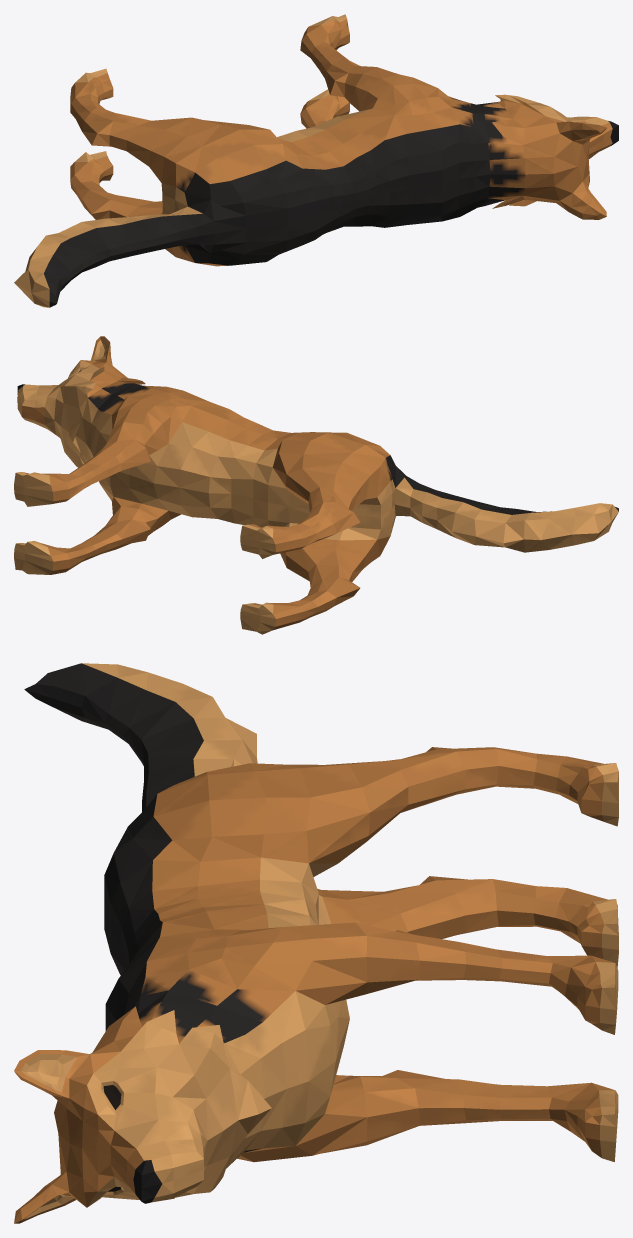
File: dog_shepherd.obj
The picture shows the model from 3 angles, top to bottom: view 1: azimuth 30°, elevation 25°; view 2: azimuth 150°, elevation 25°; view 3: azimuth 270°, elevation 25°; orthographic projection. The views are drawn at different scales.
Visible parts, largest first — view 1: dog_shepherd; view 2: dog_shepherd; view 3: dog_shepherd.
Part boxes in pixels (left/top/right/bottom): dog_shepherd: left=14, top=14, right=618, bottom=307; dog_shepherd: left=14, top=336, right=618, bottom=634; dog_shepherd: left=14, top=663, right=618, bottom=1223.
Bounding box in the file's own units: 1.47 × 0.2919 × 0.7412.
1 material, 1 textured.
